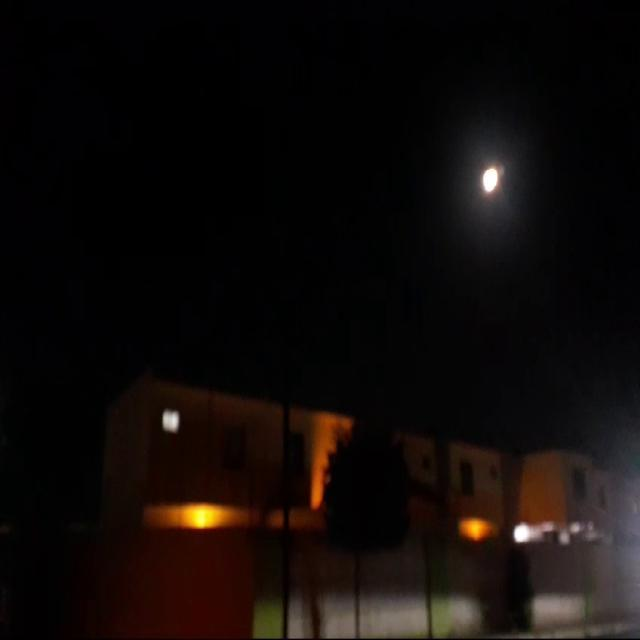moon: (480, 158, 500, 192)
